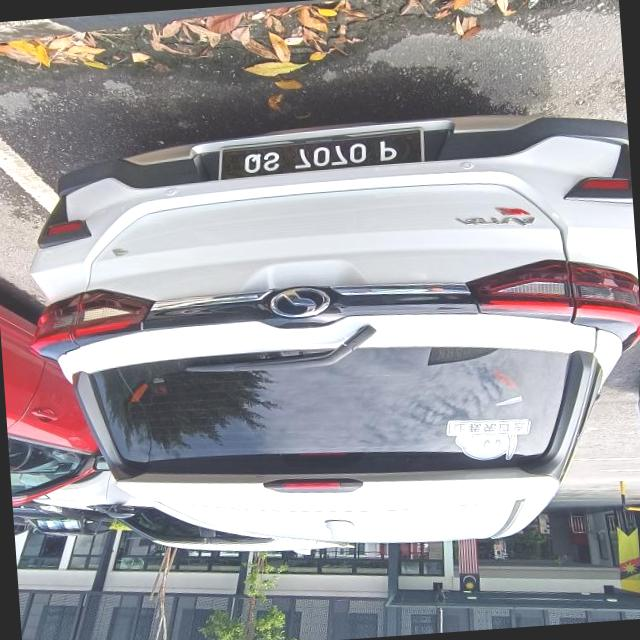PeroduaAtiva: (15, 101, 640, 571)
